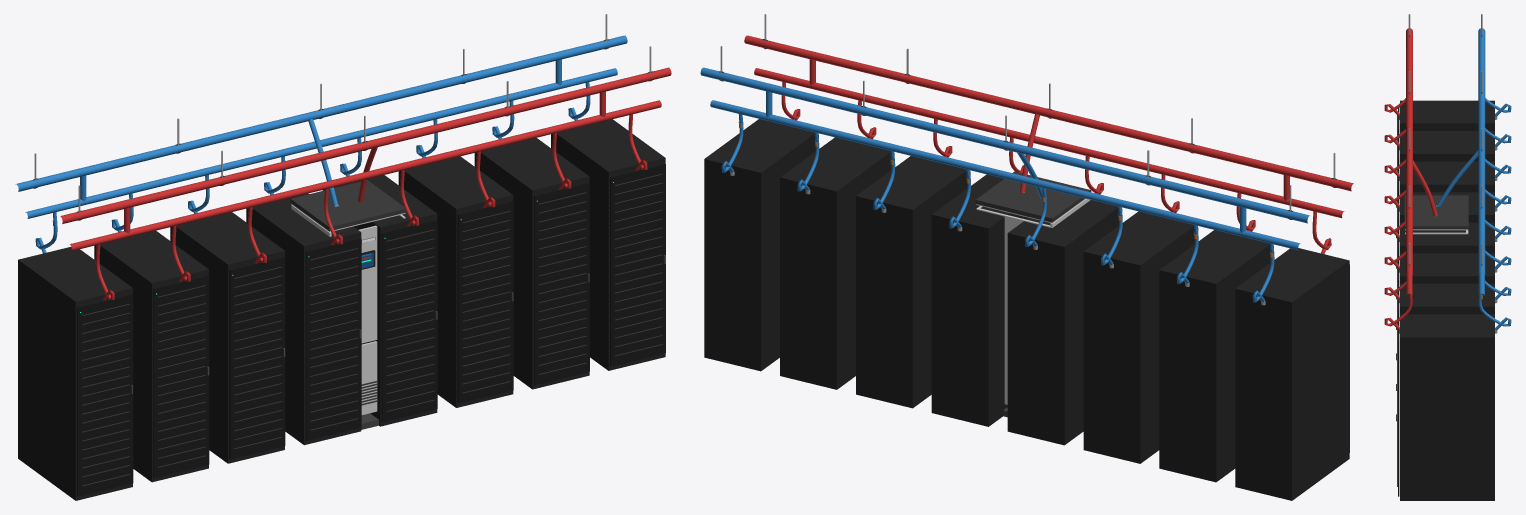
File: cdu.glb
3 renders of one model, left to right at view 1: azimuth 30°, elevation 25°; view 2: azimuth 150°, elevation 25°; view 3: azimuth 270°, elevation 25°, orthographic. The views are drawn at different scales.
Parts seen in each view (by area): view 1: Rack1, Rack6, Rack7, Rack2, Rack3, Rack8, Rack4, Rack5, CDU_Cabinet, ReturnHeader, SupplyHeader, ReturnManifold (+3 smaller); view 2: Rack1, Rack3, Rack2, Rack6, Rack8, Rack7, Rack4, Rack5, ReturnHeader, SupplyHeader, SupplyManifold, ReturnManifold (+3 smaller); view 3: Rack8, Rack7, Manifold_Distribution, Rack6, Rack1, Rack2, Rack3, Rack5, CDU_Cabinet, SupplyHeader, ReturnHeader, Overhead_Piping (+1 smaller).
Part boxes in pixels (x1,y1,x2,y2): Rack1: (18,247,133,500); Rack6: (398,156,513,407); Rack7: (474,138,589,389); Rack2: (94,230,209,482); Rack3: (170,212,285,463); Rack8: (551,119,665,370); Rack4: (246,193,361,445); Rack5: (322,175,437,426); CDU_Cabinet: (290,180,406,429); ReturnHeader: (60,67,671,223); SupplyHeader: (15,35,627,191); ReturnManifold: (70,100,661,251); Rack1: (1235,248,1349,500); Rack3: (1083,211,1198,463); Rack2: (1159,230,1273,482); Rack6: (856,156,970,408); Rack8: (704,119,818,371); Rack7: (780,137,894,389); Rack4: (1007,200,1122,445); Rack5: (931,174,1028,426); ReturnHeader: (744,35,1353,191); SupplyHeader: (700,67,1309,223); SupplyManifold: (710,100,1300,250); ReturnManifold: (754,68,1344,218); Rack8: (1396,314,1494,500); Rack7: (1396,283,1494,390); Manifold_Distribution: (1384,98,1511,333); Rack6: (1396,253,1494,360); Rack1: (1396,100,1494,207); Rack2: (1396,131,1494,238); Rack3: (1396,161,1494,268); Rack5: (1396,222,1494,329); CDU_Cabinet: (1404,195,1468,234); SupplyHeader: (1478,28,1485,274); ReturnHeader: (1406,28,1412,274); Overhead_Piping: (1408,14,1482,265).
Bounding box in the file's own units: 6.4 × 3.13 × 1.41.
